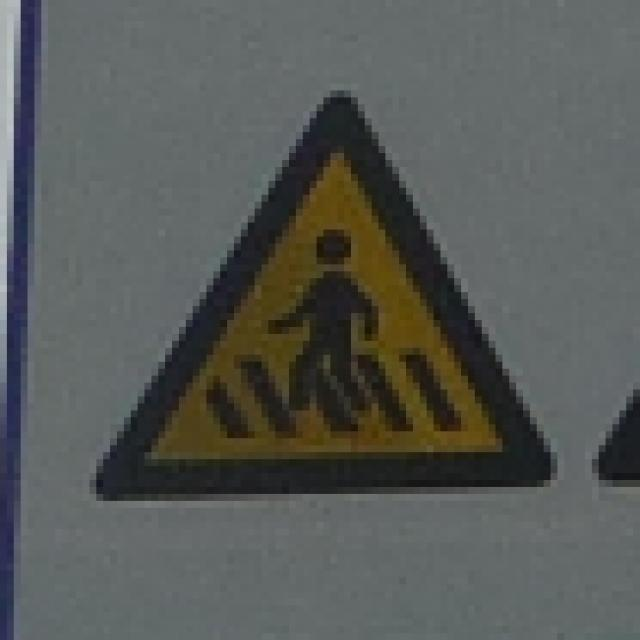Crossing: (82, 77, 579, 505)
